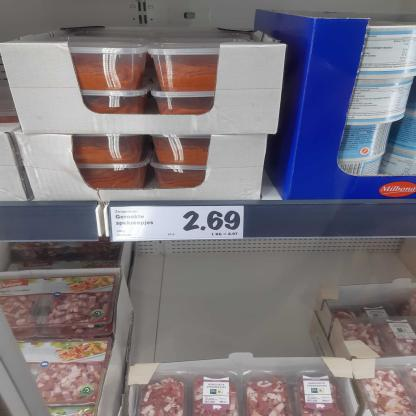prtg: (111, 207, 245, 242)
